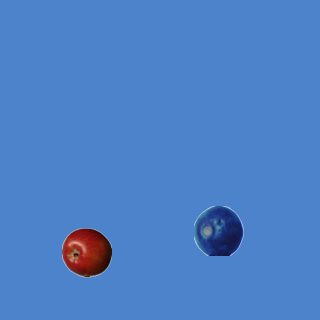Apple Braeburn: (61, 227, 111, 277)
Huckleberry: (193, 205, 243, 255)
